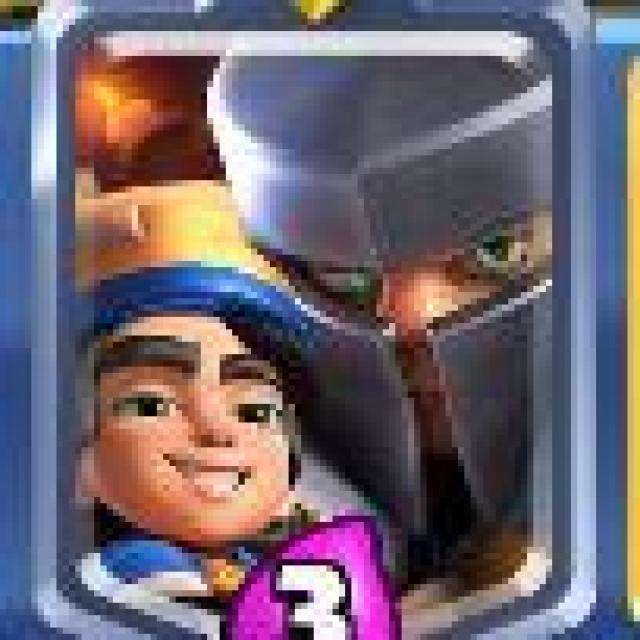Little_Prince: (34, 1, 590, 640)
